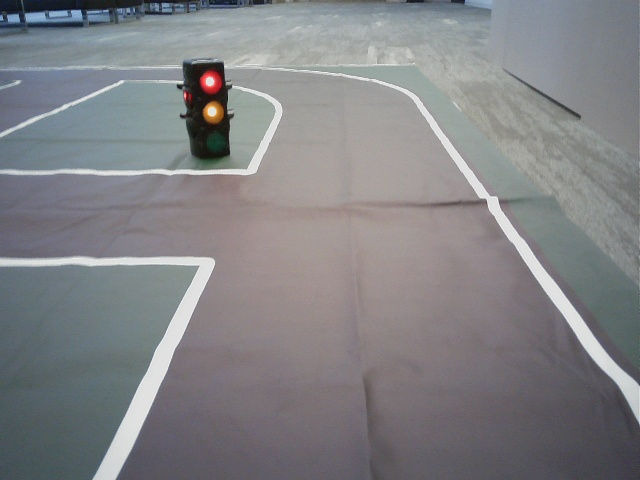red: (193, 62, 231, 158)
